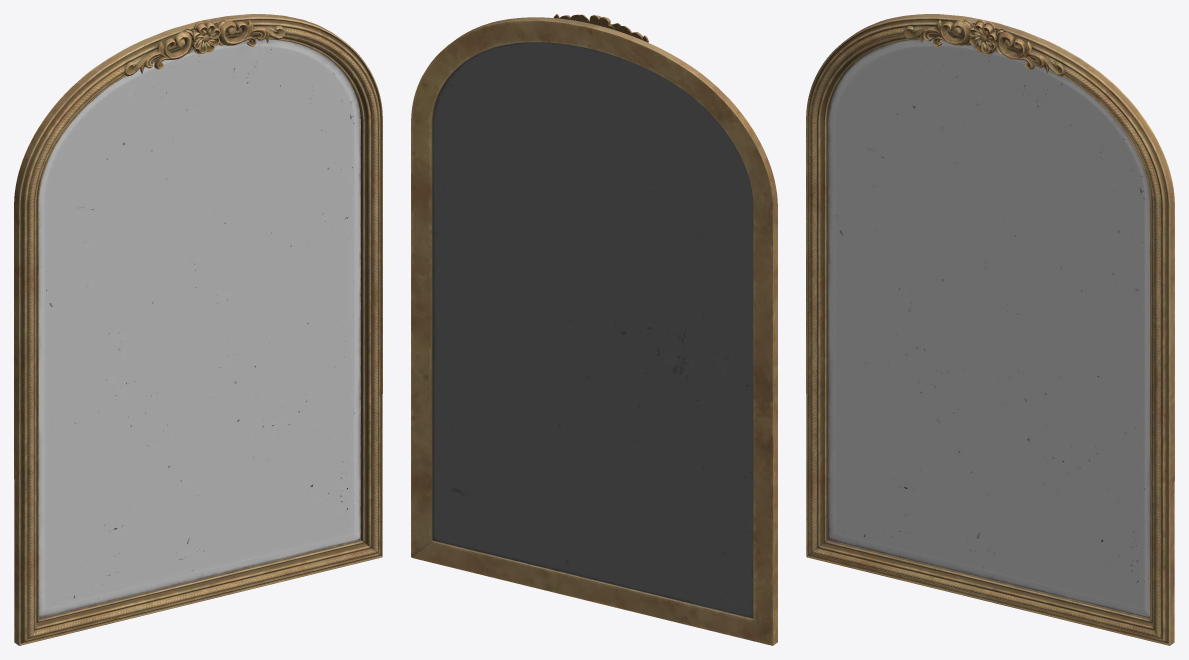
File: ornate_mirror_01_1k.glb
The picture shows the model from 3 angles, left to right: view 1: azimuth 30°, elevation 25°; view 2: azimuth 150°, elevation 25°; view 3: azimuth 330°, elevation 25°; orthographic projection.
Visible parts, largest first — view 1: ornate_mirror_01; view 2: ornate_mirror_01; view 3: ornate_mirror_01.
Part boxes in pixels (x1,y1,x2,y2): ornate_mirror_01: [14, 14, 382, 645]; ornate_mirror_01: [411, 14, 777, 645]; ornate_mirror_01: [806, 14, 1174, 645].
Bounding box in the file's own units: 0.4865 × 0.7442 × 0.026.
Materials: 1 (1 with a texture image).
